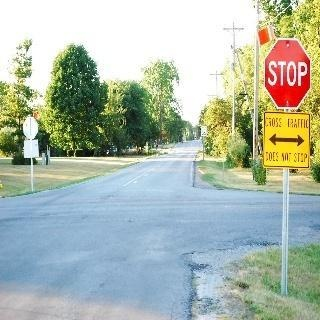sign_stop: (264, 38, 309, 107)
